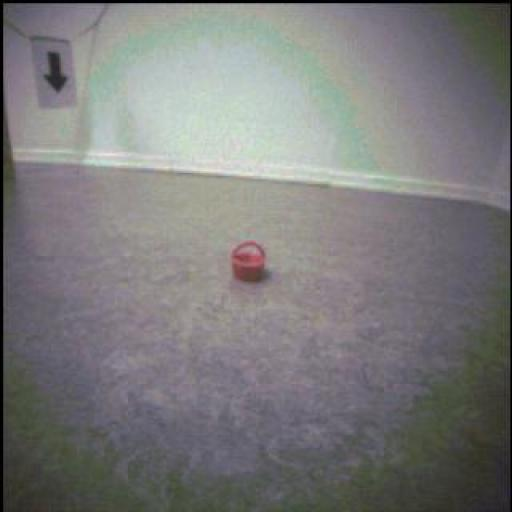Arrow: (46, 54, 68, 94)
Bucket: (232, 242, 272, 284)
